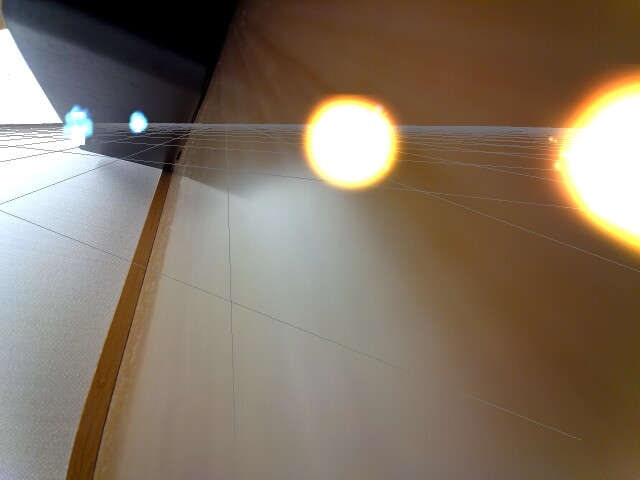firebig: (542, 57, 640, 268)
